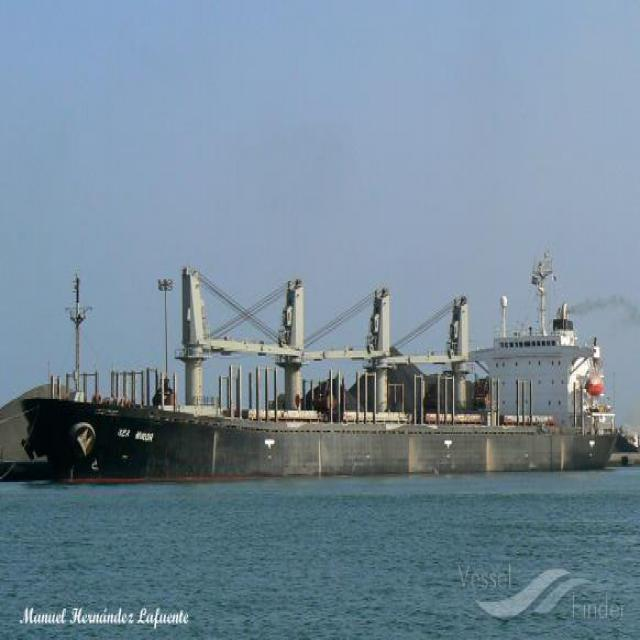OCR: (114, 418, 163, 446)
